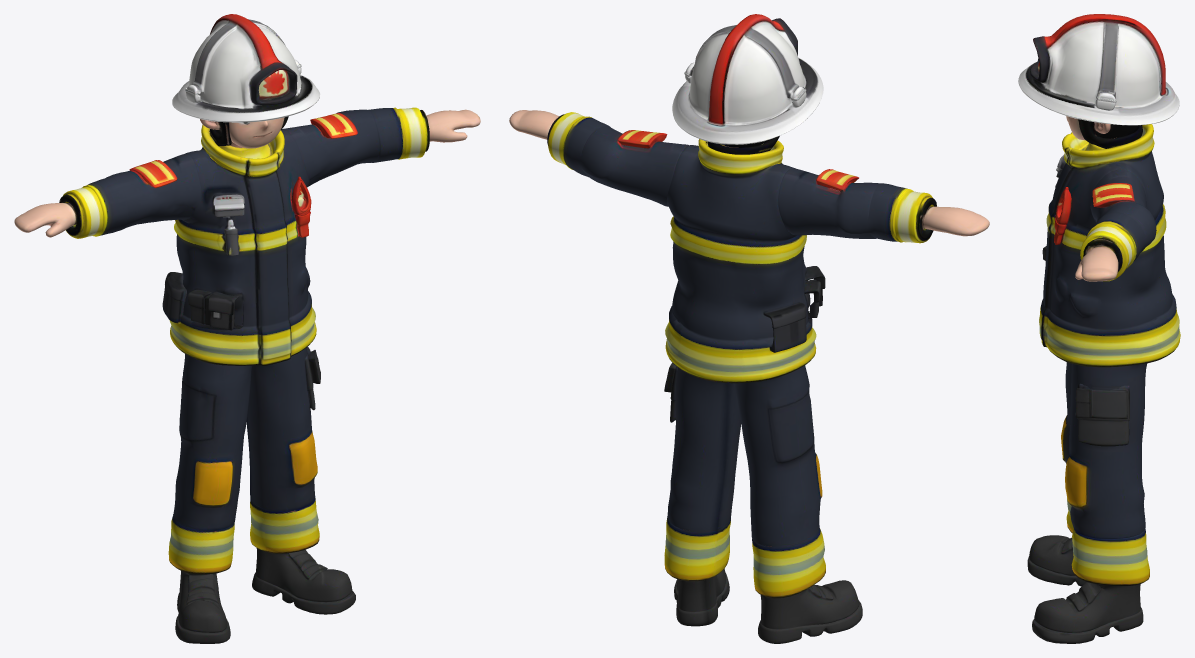
Rendered from toonstudio_firefighter.glb.
The picture shows the model from 3 angles, left to right: view 1: azimuth 30°, elevation 25°; view 2: azimuth 150°, elevation 25°; view 3: azimuth 270°, elevation 25°; orthographic projection. The views are drawn at different scales.
Parts seen in each view (by area): view 1: e0e5e7fa_3143_456f_865c_10bdc2723b01; view 2: e0e5e7fa_3143_456f_865c_10bdc2723b01; view 3: e0e5e7fa_3143_456f_865c_10bdc2723b01.
Part boxes in pixels (x1=…): e0e5e7fa_3143_456f_865c_10bdc2723b01: x1=14, y1=14, x2=480, y2=643; e0e5e7fa_3143_456f_865c_10bdc2723b01: x1=509, y1=14, x2=989, y2=643; e0e5e7fa_3143_456f_865c_10bdc2723b01: x1=1018, y1=14, x2=1180, y2=643.
Size of the model in its own units: 1.4 by 1.7 by 0.4244.
Materials: 1 (1 with a texture image).
